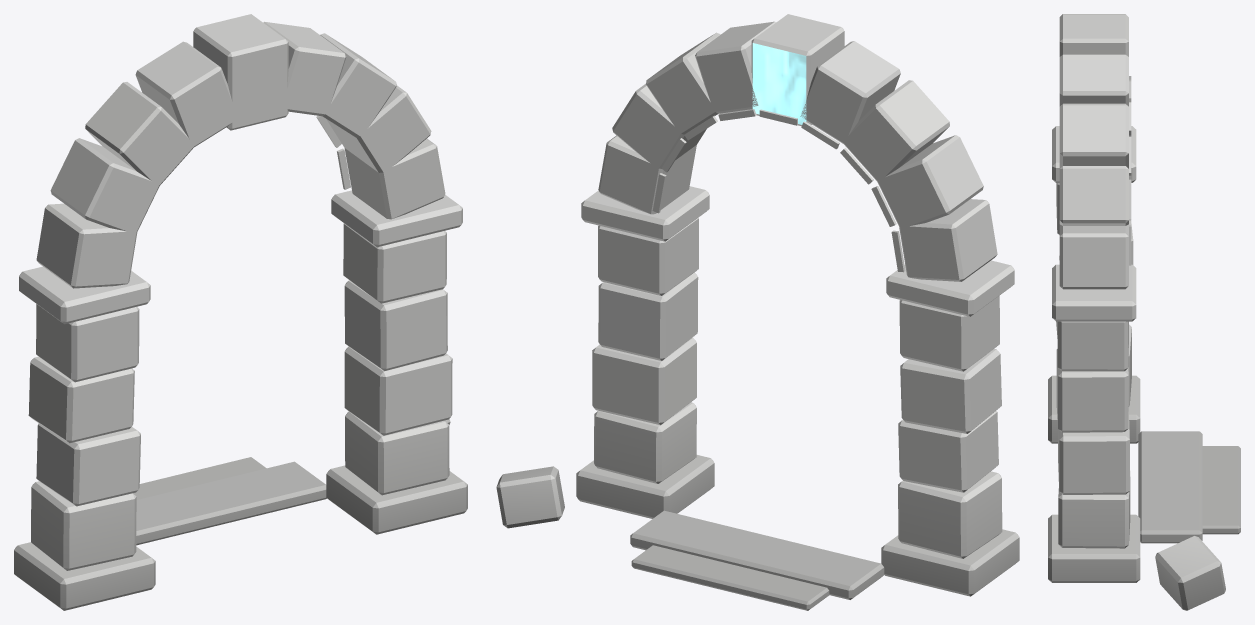
Rendered from SM_ENV_Ocean_Arch_Estuary.fbx.
The picture shows the model from 3 angles, left to right: view 1: azimuth 30°, elevation 25°; view 2: azimuth 150°, elevation 25°; view 3: azimuth 270°, elevation 25°; orthographic projection. The views are drawn at different scales.
Parts seen in each view (by area): view 1: SM_ENV_Ocean_Arch_Estuary; view 2: SM_ENV_Ocean_Arch_Estuary; view 3: SM_ENV_Ocean_Arch_Estuary.
Part boxes in pixels (bbox=[...]): SM_ENV_Ocean_Arch_Estuary: bbox=[14, 14, 467, 610]; SM_ENV_Ocean_Arch_Estuary: bbox=[496, 14, 1019, 610]; SM_ENV_Ocean_Arch_Estuary: bbox=[1048, 14, 1240, 610].
Bounding box in the file's own units: 6.05 × 6.54 × 2.4.
